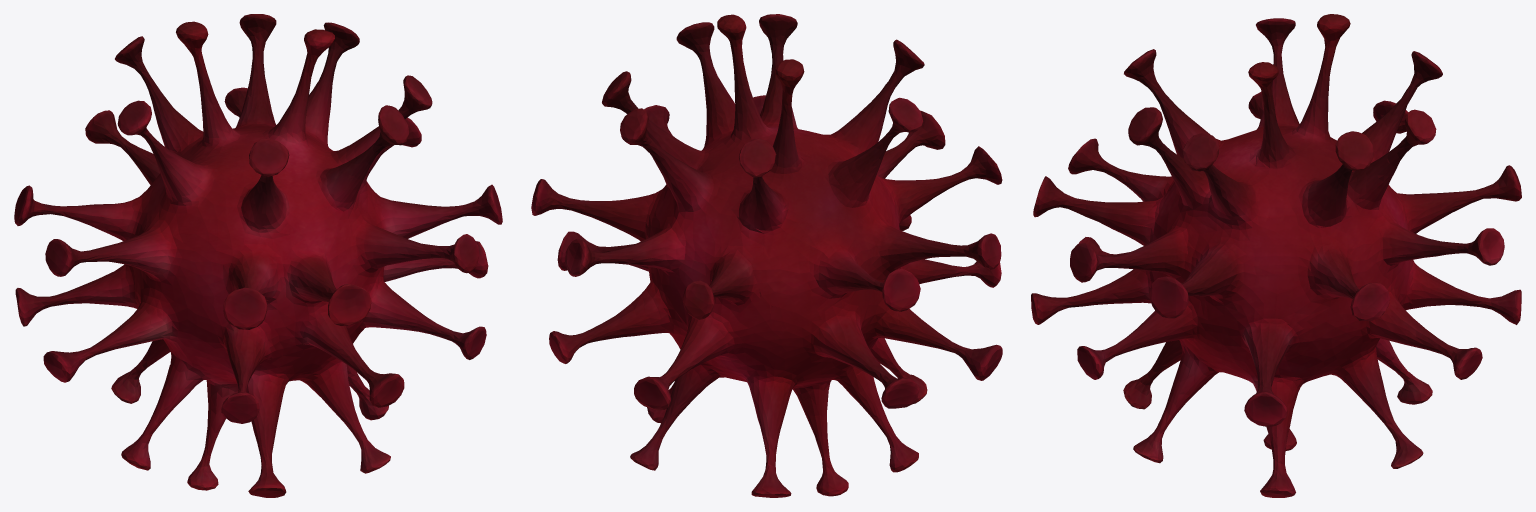
The model's file is virus_2.glb.
3 views of the same model, side by side, from view 1: azimuth 30°, elevation 25°; view 2: azimuth 150°, elevation 25°; view 3: azimuth 270°, elevation 25° (orthographic).
Visible parts, largest first — view 1: world; view 2: world; view 3: world.
Boxes of the visible parts, x1,y1,x2,y2 form: world: (14, 14, 502, 497); world: (531, 14, 1002, 497); world: (1031, 14, 1521, 497).
Size of the model in its own units: 1 by 0.9888 by 0.9997.
1 material, 1 textured.
